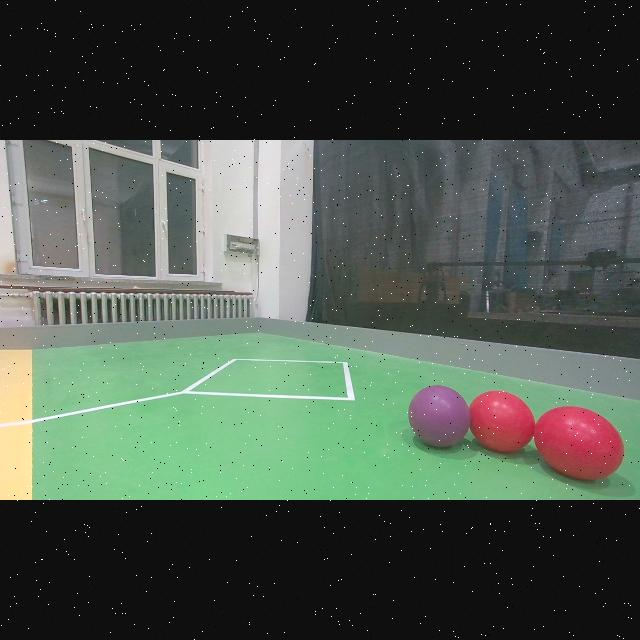P: (408, 386, 470, 448)
R: (534, 406, 624, 480), (468, 391, 536, 453)
